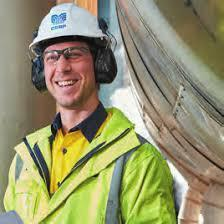helmet: (28, 1, 111, 50)
